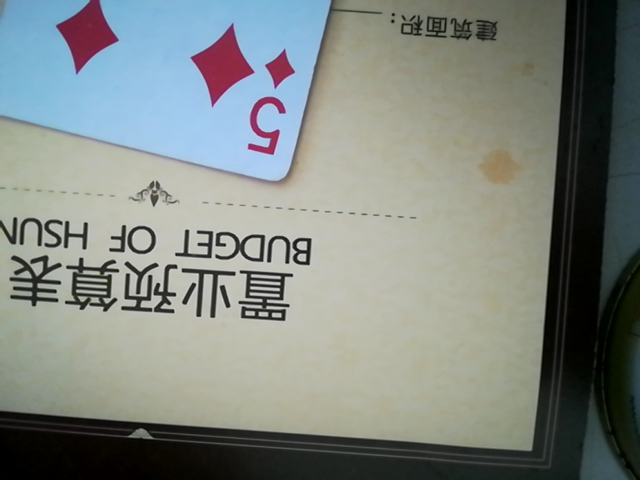fk 5: (0, 0, 440, 190)
